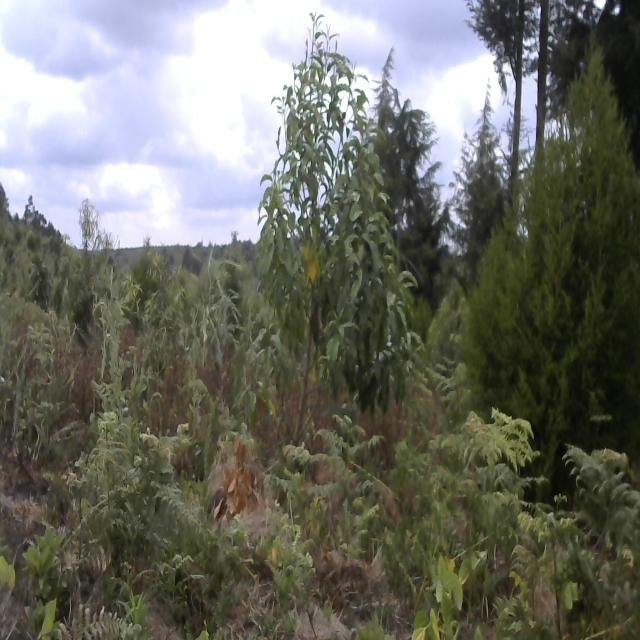Juniperus procesera: (463, 66, 640, 514), (371, 41, 445, 280)
Olea welwitchii: (256, 14, 407, 448)
